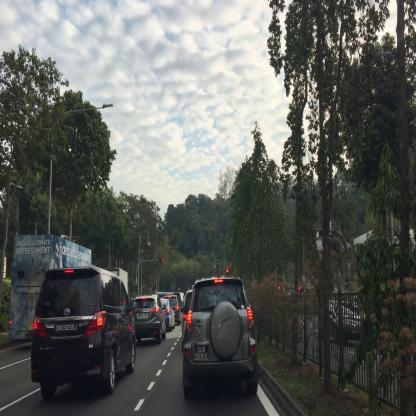red_traffic_light: (159, 258, 164, 262)
